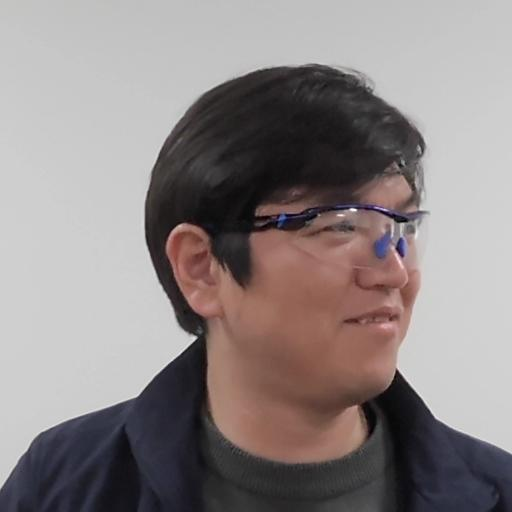glasses: (146, 61, 434, 398)
